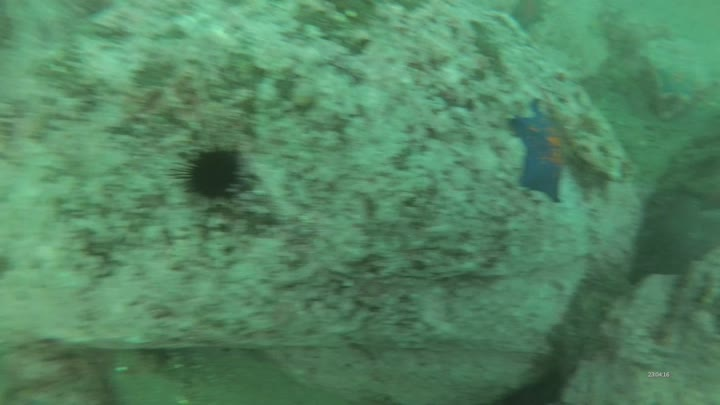echinus: (170, 143, 256, 207)
holothurian: (640, 188, 705, 278)
starfish: (507, 97, 568, 204), (343, 317, 403, 363), (658, 57, 701, 97), (509, 1, 548, 32)
